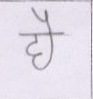ai_matra: (31, 7, 56, 32)
